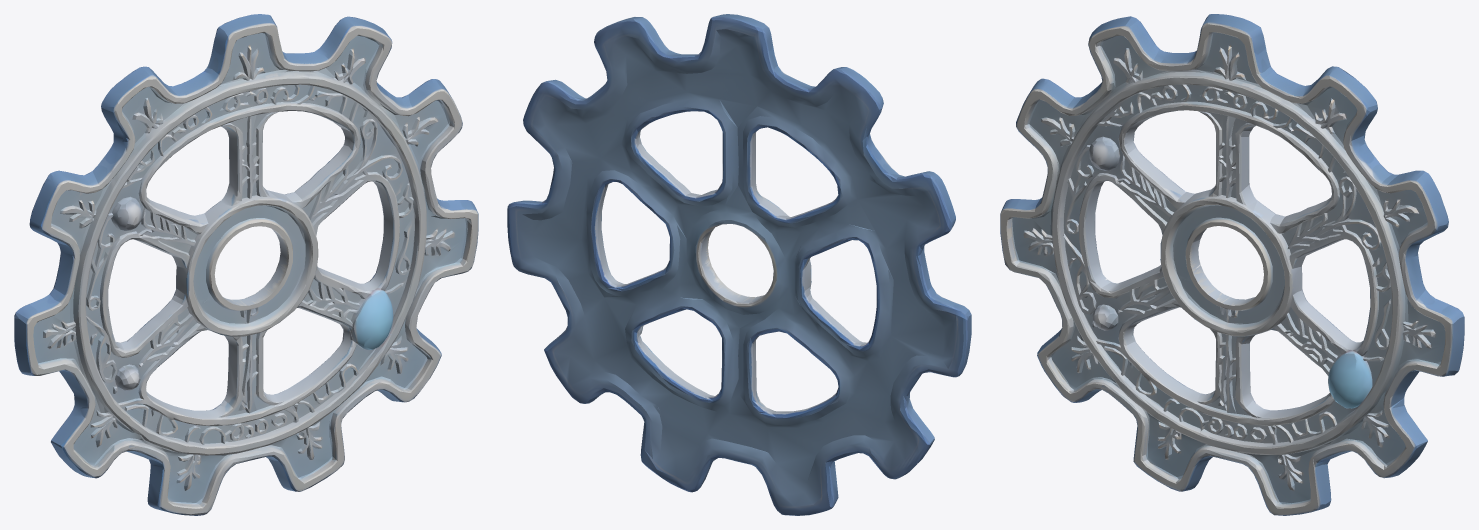
File: Cog_Glacier.fbx
3 renders of one model, left to right at view 1: azimuth 30°, elevation 25°; view 2: azimuth 150°, elevation 25°; view 3: azimuth 330°, elevation 25°, orthographic.
Parts seen in each view (by area): view 1: model; view 2: model; view 3: model.
Boxes of the visible parts, <box> form: model: <box>14,14,478,515</box>; model: <box>507,14,971,515</box>; model: <box>1000,14,1464,515</box>.
Size of the model in its own units: 181 by 182 by 10.8.
Materials: 1 (1 with a texture image).
